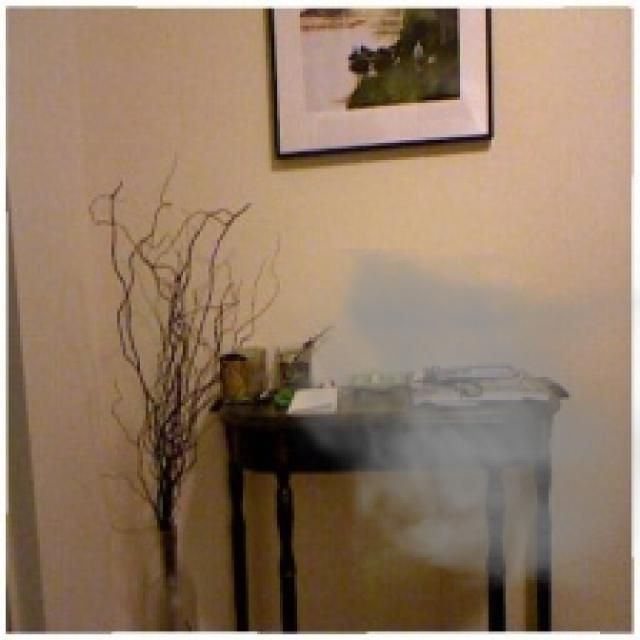Smoke: (268, 248, 638, 594)
